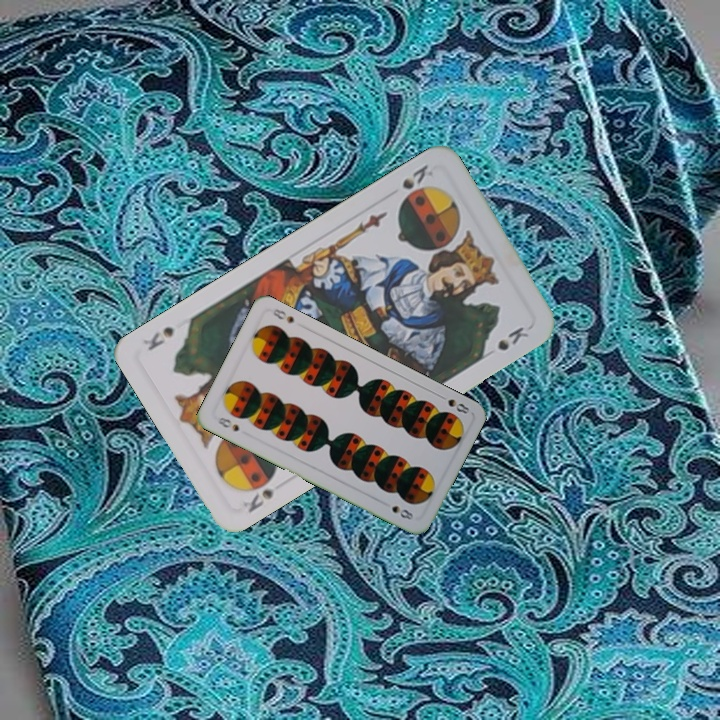S8: (434, 391, 472, 417), (213, 413, 242, 434)
SK: (393, 160, 436, 206), (238, 470, 279, 516)
